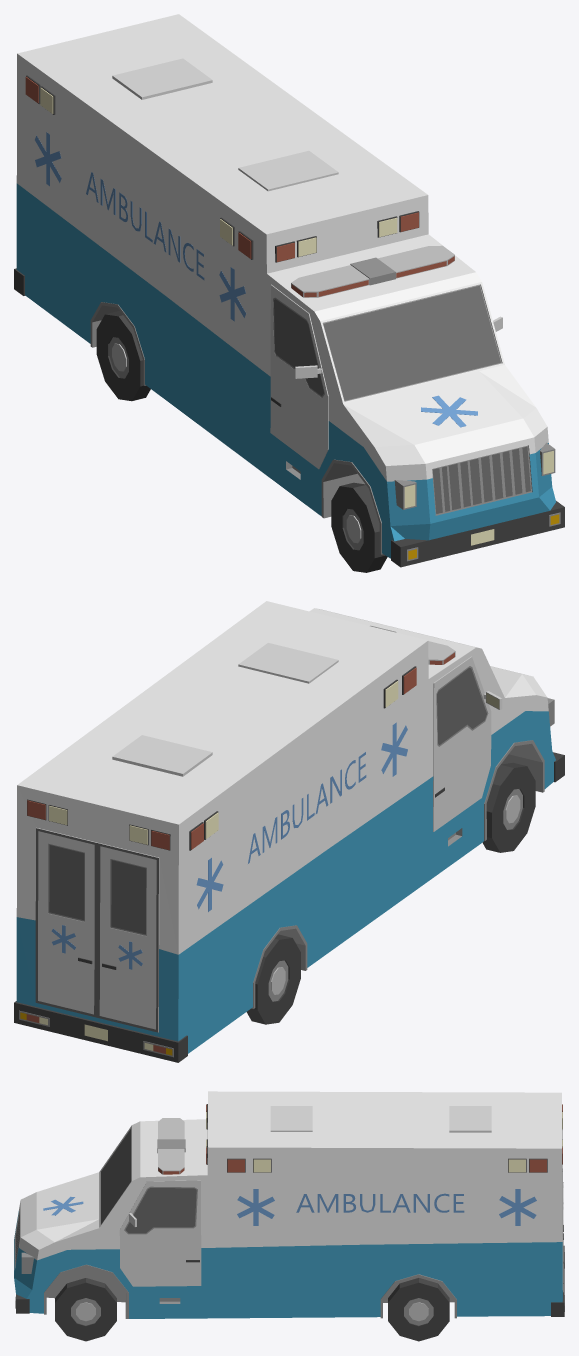
File: Ambulance_2.fbx
3 views of the same model, one above another, from view 1: azimuth 30°, elevation 25°; view 2: azimuth 150°, elevation 25°; view 3: azimuth 270°, elevation 25° (orthographic). The views are drawn at different scales.
Parts seen in each view (by area): view 1: ty, Cylinder_2_3, Cylinder_2_1; view 2: ty, Cylinder_2_3, Cylinder_2_1; view 3: ty, Cylinder_2_2, Cylinder_2.
Boxes of the visible parts, <box> form: ty: <box>14,14,564,567</box>; Cylinder_2_3: <box>331,482,387,572</box>; Cylinder_2_1: <box>96,311,150,401</box>; ty: <box>14,601,564,1062</box>; Cylinder_2_3: <box>482,762,535,852</box>; Cylinder_2_1: <box>246,934,300,1024</box>; ty: <box>14,1091,564,1318</box>; Cylinder_2_2: <box>55,1278,116,1341</box>; Cylinder_2: <box>388,1278,449,1341</box>.
Size of the model in its own units: 169 by 215 by 549.
